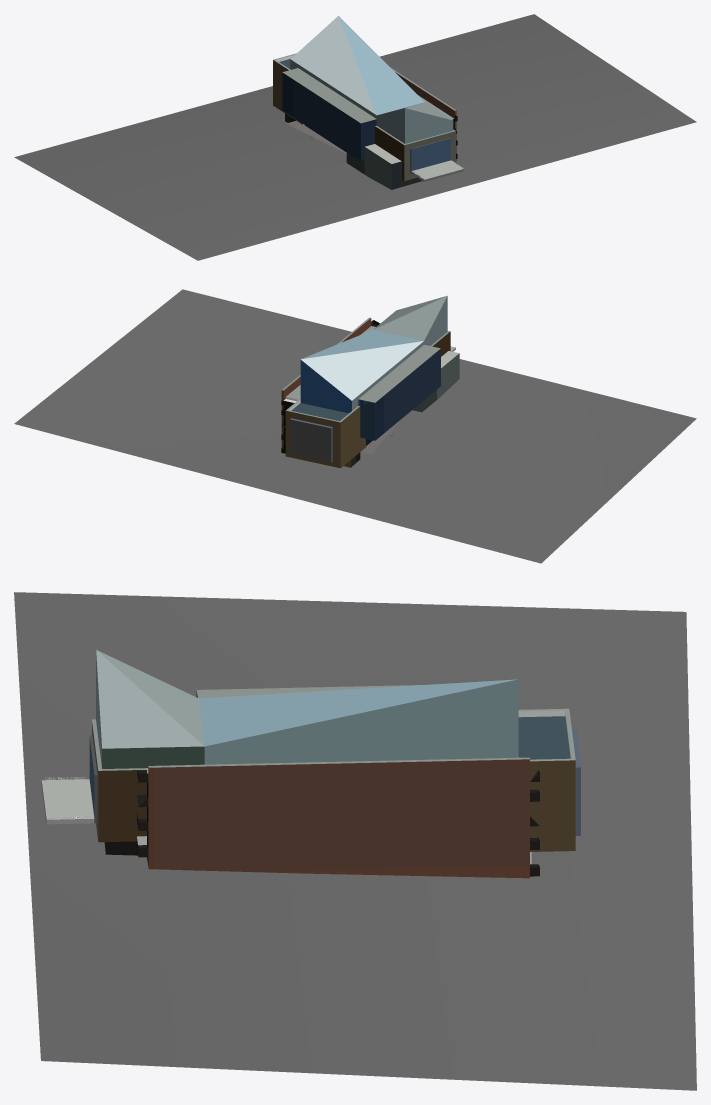
File: tennessee-aquarium-ocean-journey.glb
The picture shows the model from 3 angles, top to bottom: view 1: azimuth 30°, elevation 25°; view 2: azimuth 150°, elevation 25°; view 3: azimuth 270°, elevation 25°; orthographic projection. The views are drawn at different scales.
Visible parts, largest first — view 1: LOD0; view 2: LOD0; view 3: LOD0.
Boxes of the visible parts, x1,y1,x2,y2 form: LOD0: (14, 14, 696, 260); LOD0: (14, 289, 696, 563); LOD0: (14, 592, 696, 1090).
Size of what is drawn, in the model's own units: 179 by 33.85 by 102.
2 materials, 2 textured.
